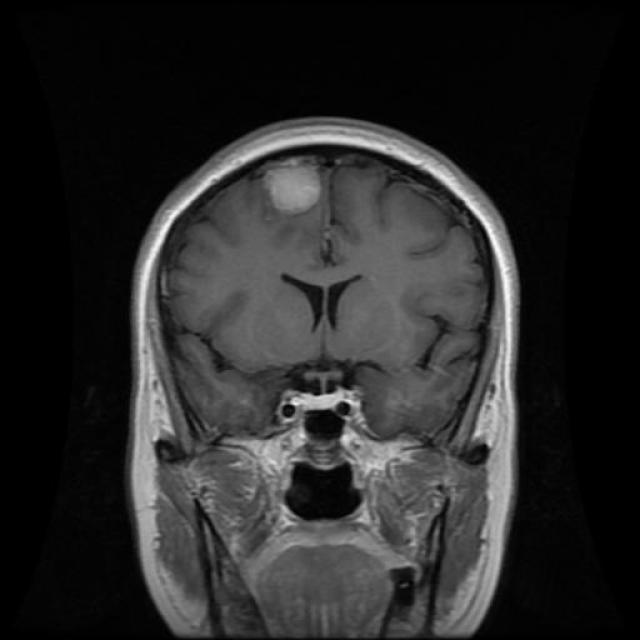meningioma: (268, 168, 321, 216)
